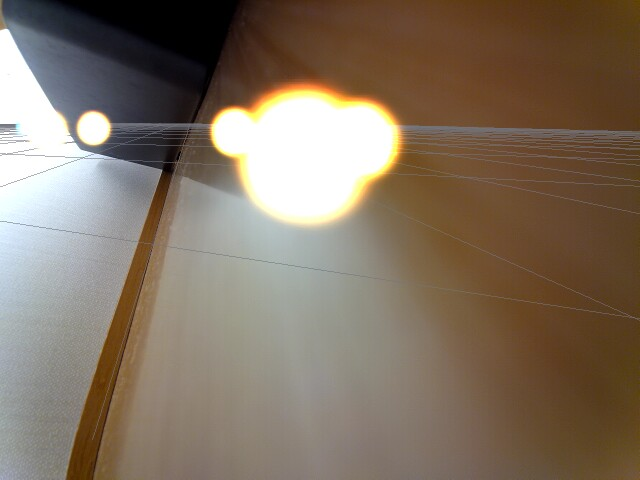firebig: (218, 56, 428, 223)
